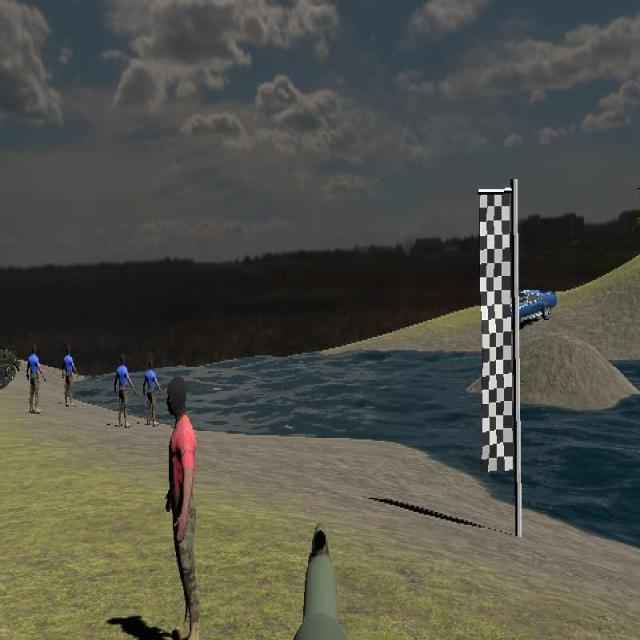Human: (167, 377, 199, 632), (114, 353, 135, 429), (26, 342, 45, 414), (143, 359, 162, 427), (61, 344, 78, 408)
Tank: (0, 336, 19, 392), (0, 334, 19, 390)
